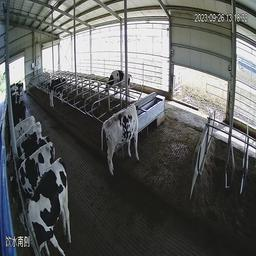cow: (27, 156, 73, 256), (9, 141, 56, 216), (101, 99, 139, 179), (9, 134, 51, 185), (8, 114, 36, 164), (10, 127, 42, 165), (104, 66, 134, 105), (14, 120, 41, 154), (45, 76, 68, 110)
